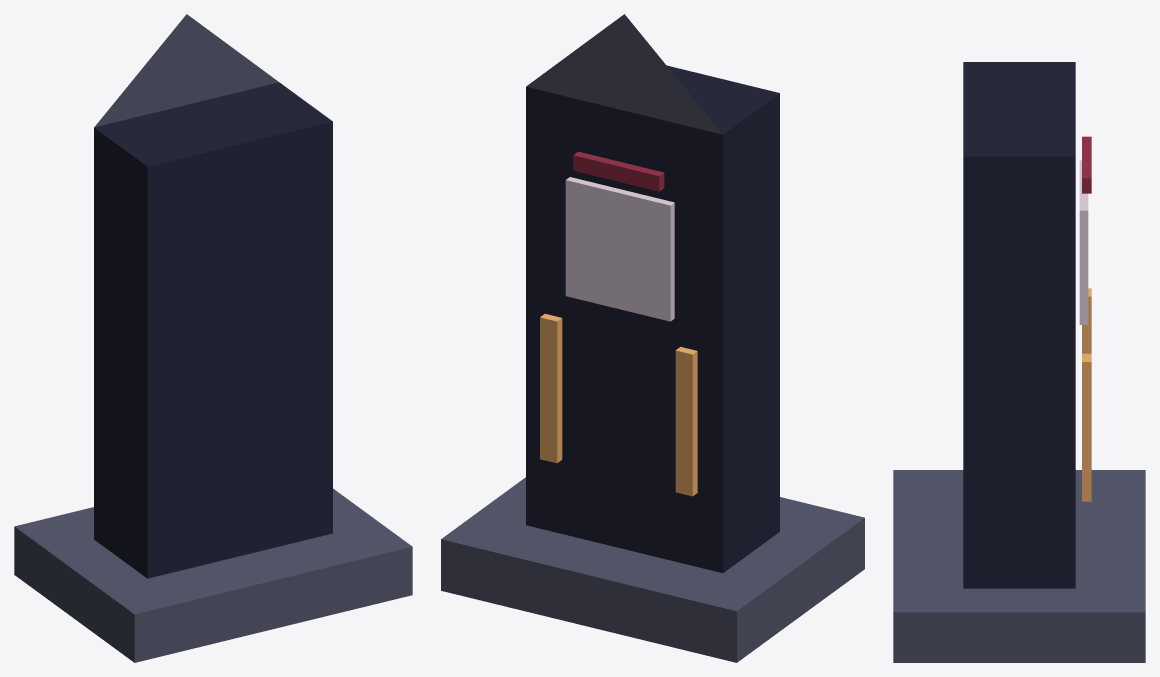
File: moonfall_spirit_waystone.obj
The picture shows the model from 3 angles, left to right: view 1: azimuth 30°, elevation 25°; view 2: azimuth 150°, elevation 25°; view 3: azimuth 270°, elevation 25°; orthographic projection. The views are drawn at different scales.
Parts seen in each view (by area): view 1: moonfall_spirit_waystone; view 2: moonfall_spirit_waystone; view 3: moonfall_spirit_waystone.
Part boxes in pixels (<box>): moonfall_spirit_waystone: <box>14,14,412,662</box>; moonfall_spirit_waystone: <box>441,14,864,662</box>; moonfall_spirit_waystone: <box>893,62,1145,662</box>.
Size of the model in its own units: 2.4 by 4.55 by 1.8.
